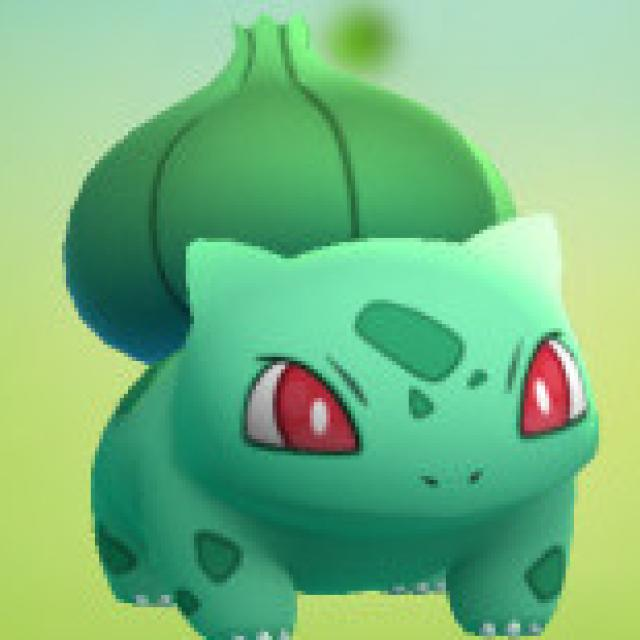Bulbasaur: (83, 151, 604, 633)
